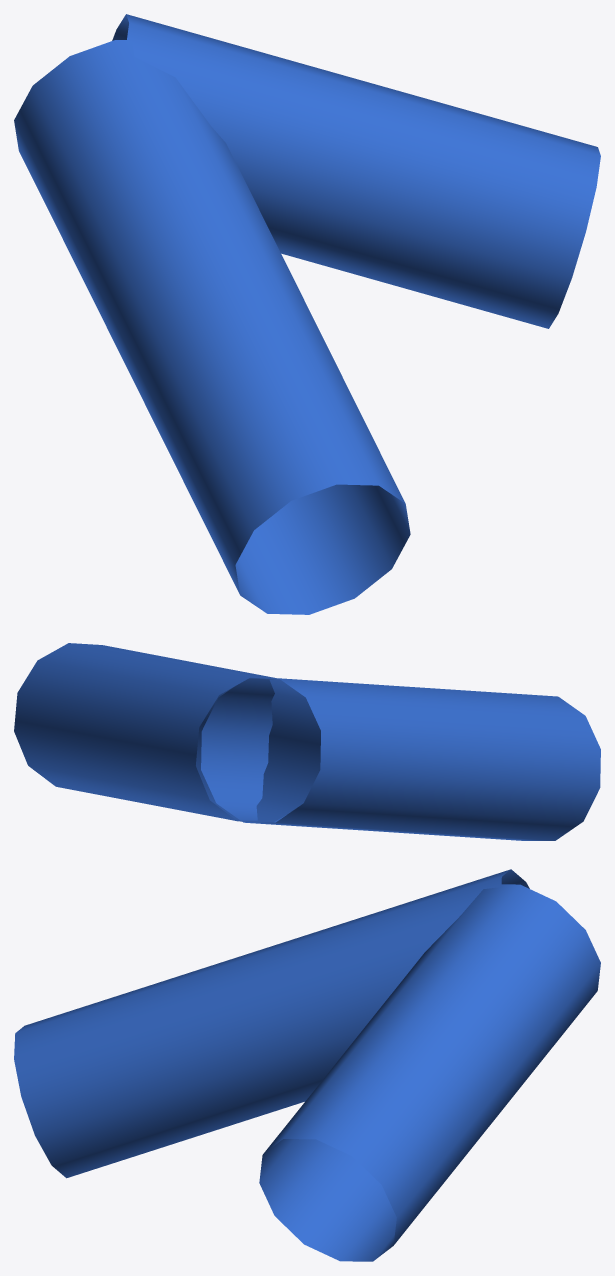
Rendered from circulatorio-hepatic-veins.glb.
3 views of the same model, one above another, from view 1: azimuth 30°, elevation 25°; view 2: azimuth 150°, elevation 25°; view 3: azimuth 270°, elevation 25° (orthographic). The views are drawn at different scales.
Visible parts, largest first — view 1: Hepatic veins; view 2: Hepatic veins; view 3: Hepatic veins.
Part boxes in pixels (x1,y1,x2,y2): Hepatic veins: (14, 14, 600, 614); Hepatic veins: (14, 643, 600, 840); Hepatic veins: (14, 869, 600, 1261).
Size of the model in its own units: 0.0233 by 0.0155 by 0.0257.
